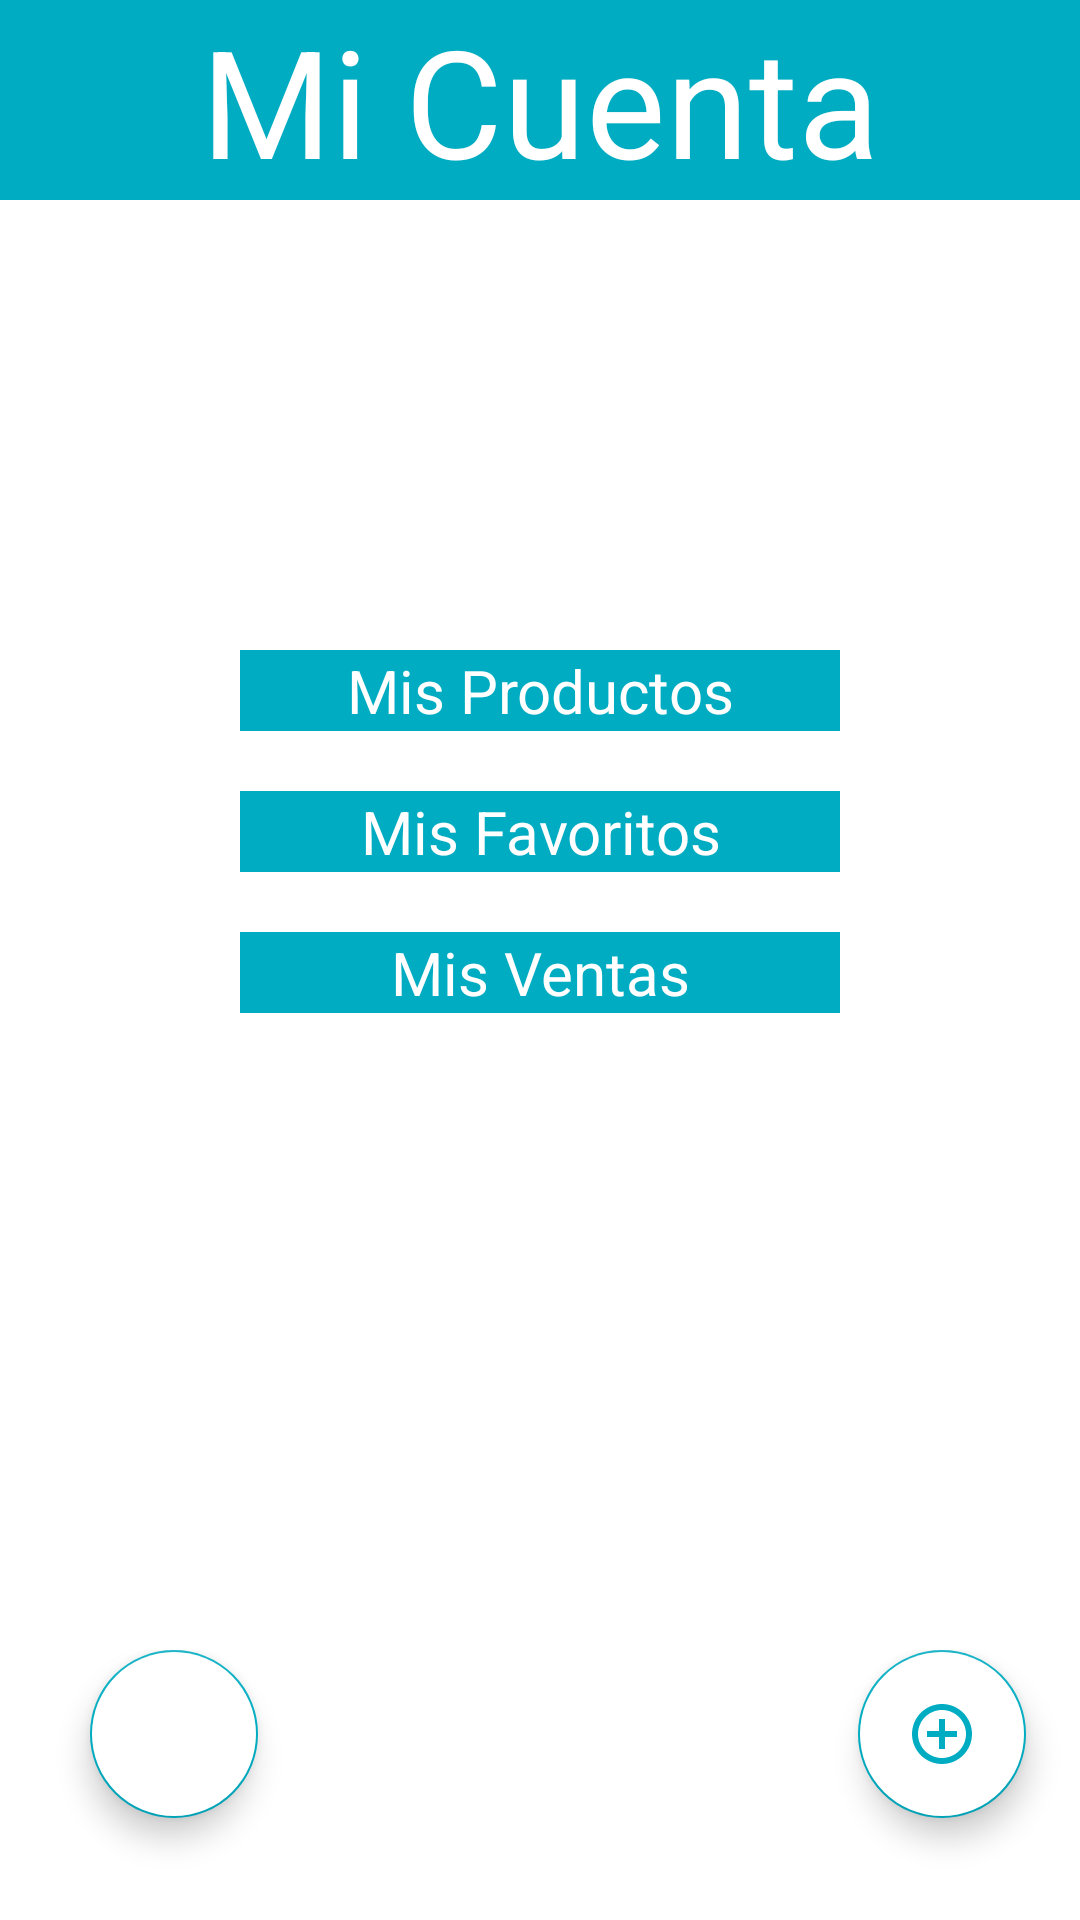

Screen size 1080px×1920px. Icon name, then its box in pixels as box=[x1, y1, x2, y2]:
anadir producto: box=[858, 1650, 1026, 1818]
